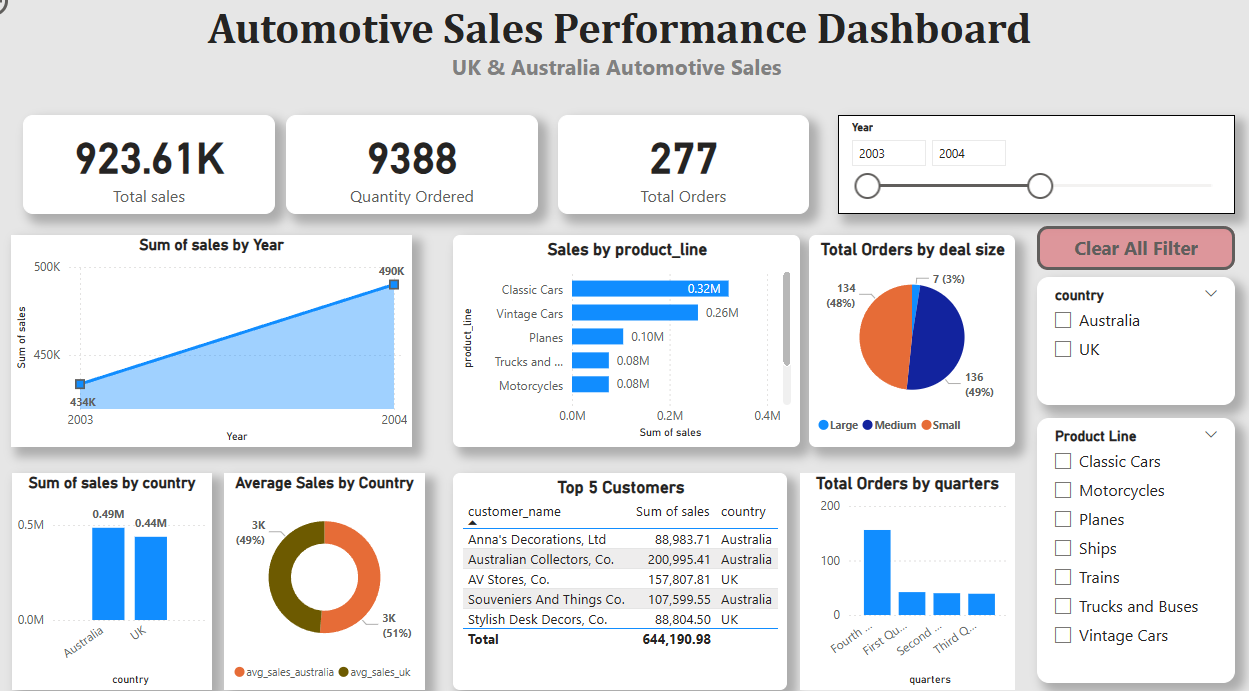

What the dashboard file says about the page in this screenshot:
{"tool":"powerbi","page":{"name":"Dashboard","canvas":[1280,720],"ordinal":0},"visuals":[{"type":"textbox","box":[117,16,1059,99],"z":0},{"type":"card","fields":{"Values":["Sum(Working sheet.sales)"]},"box":[50,134,252,99],"z":1000},{"type":"card","fields":{"Values":["Sum(Working sheet.quantity_ordered)"]},"box":[313,134,252,99],"z":2000},{"type":"card","fields":{"Values":["Working sheet.Total Orders"]},"box":[585,134,251,99],"z":3000},{"type":"lineChart","fields":{"Y":["Sum(Working sheet.sales)"],"Category":["Working sheet.order_date.Variation.Date Hierarchy.Year"]},"box":[38,254,401,212],"z":4000},{"type":"barChart","title":"Sales by product_line","fields":{"Y":["Sum(Working sheet.sales)"],"Category":["Working sheet.product_line"]},"box":[480,254,347,212],"z":5000},{"type":"clusteredColumnChart","fields":{"Y":["Sum(Working sheet.sales)"],"Category":["Working sheet.country"]},"box":[39,492,200,217],"z":6000},{"type":"tableEx","title":"Top 5 Customers","fields":{"Values":["Working sheet.customer_name","Sum(Working sheet.sales)","Working sheet.country"]},"box":[480,492,334,217],"z":7000},{"type":"columnChart","fields":{"Category":["Working sheet.quarters"],"Y":["Working sheet.Total Orders"]},"box":[827,492,215,217],"z":8000},{"type":"slicer","fields":{"Values":["Working sheet.order_date.Variation.Date Hierarchy.Year"]},"box":[865,134,397,99],"z":9000},{"type":"slicer","fields":{"Values":["Working sheet.country"]},"box":[1064,296,198,128],"z":10000},{"type":"slicer","fields":{"Values":["Working sheet.product_line"]},"box":[1064,437,198,265],"z":11000},{"type":"actionButton","box":[1064,245,198,44],"z":12000},{"type":"pieChart","title":"Total Orders by deal size","fields":{"Category":["Working sheet.deal_size"],"Y":["Working sheet.Total Orders"]},"box":[836,254,206,212],"z":13000},{"type":"donutChart","title":"Average Sales by Country","fields":{"Y":["Working sheet.avg_sales_australia","Working sheet.avg_sales_uk"]},"box":[251,492,201,217],"z":14000},{"type":"actionButton","box":[0,0,100,40],"z":14001}]}

Visuals, with their boxes in screenshot pixels (x1, y1, x2, y2), scaled from the page's 1280x720 canvas onto the 1249x691 screenshot:
textbox: (114, 15, 1148, 110)
card - Sum(Working sheet.sales): (49, 129, 295, 224)
card - Sum(Working sheet.quantity_ordered): (305, 129, 551, 224)
card - Working sheet.Total Orders: (571, 129, 816, 224)
lineChart - Sum(Working sheet.sales) x Working sheet.order_date.Variation.Date Hierarchy.Year: (37, 244, 428, 447)
"Sales by product_line" barChart: (468, 244, 807, 447)
clusteredColumnChart - Sum(Working sheet.sales) x Working sheet.country: (38, 472, 233, 680)
"Top 5 Customers" tableEx: (468, 472, 794, 680)
columnChart - Working sheet.quarters x Working sheet.Total Orders: (807, 472, 1017, 680)
slicer - Working sheet.order_date.Variation.Date Hierarchy.Year: (844, 129, 1231, 224)
slicer - Working sheet.country: (1038, 284, 1231, 407)
slicer - Working sheet.product_line: (1038, 419, 1231, 674)
actionButton: (1038, 235, 1231, 277)
"Total Orders by deal size" pieChart: (816, 244, 1017, 447)
"Average Sales by Country" donutChart: (245, 472, 441, 680)
actionButton: (0, 0, 98, 38)
